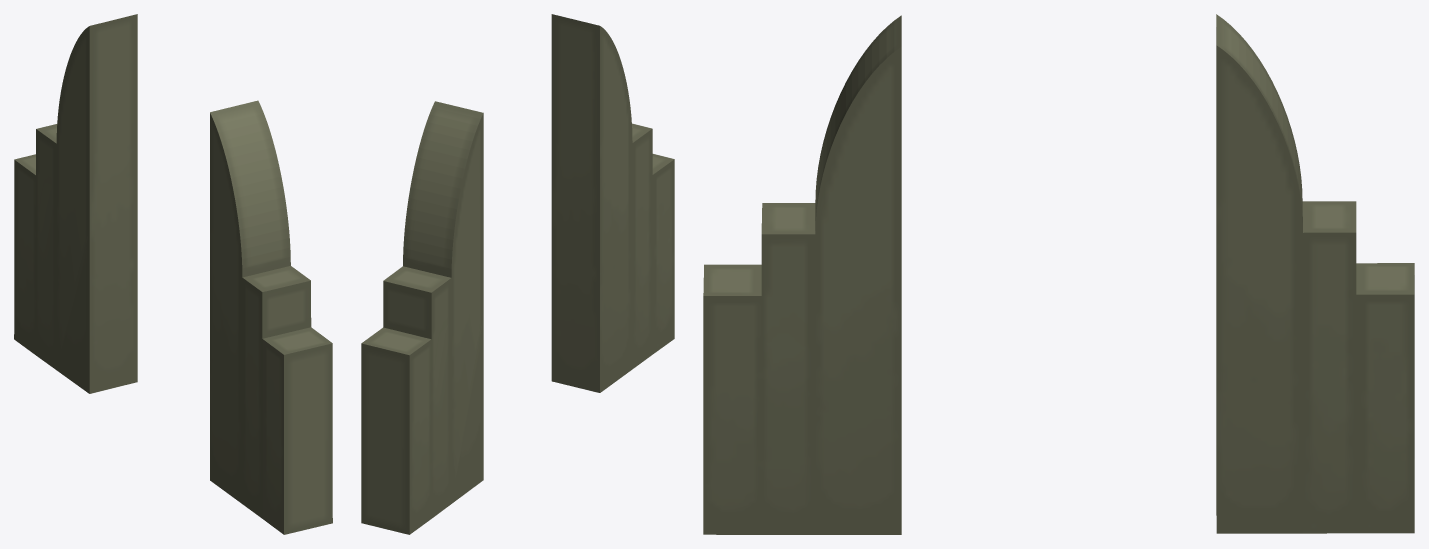
Rendered from Statue.fbx.
3 views of the same model, side by side, from view 1: azimuth 30°, elevation 25°; view 2: azimuth 150°, elevation 25°; view 3: azimuth 270°, elevation 25° (orthographic). The views are drawn at different scales.
Parts seen in each view (by area): view 1: Cube, Cube.001; view 2: Cube.001, Cube; view 3: Cube.001, Cube.
Boxes of the visible parts, bbox=[...] form: Cube: bbox=[210, 100, 332, 534]; Cube.001: bbox=[14, 14, 137, 393]; Cube.001: bbox=[361, 101, 483, 534]; Cube: bbox=[551, 14, 674, 392]; Cube.001: bbox=[1216, 14, 1414, 533]; Cube: bbox=[703, 15, 901, 534].
Bounding box in the file's own units: 99.8 × 690 × 910.
